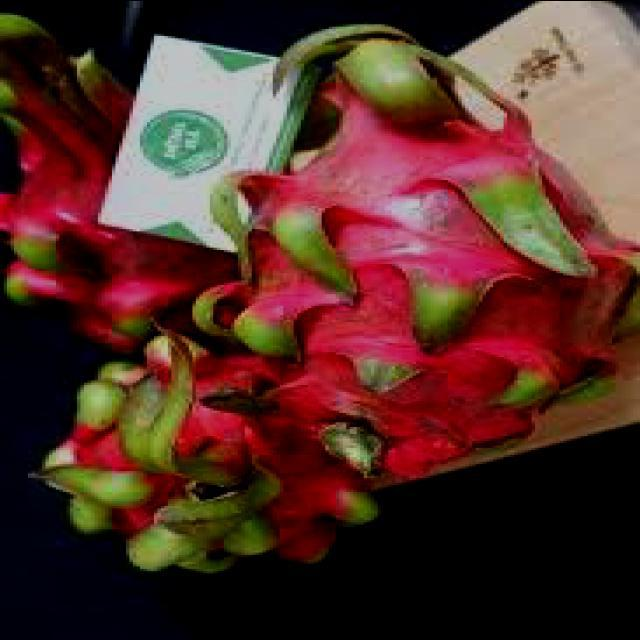do: (188, 16, 636, 470), (35, 342, 375, 576), (0, 9, 221, 353)
